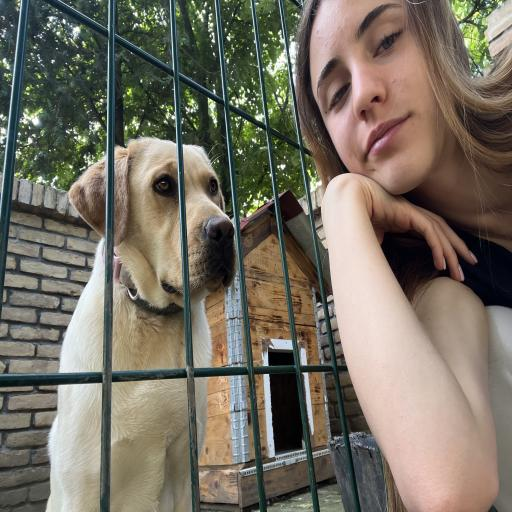masa: (308, 7, 448, 187)
